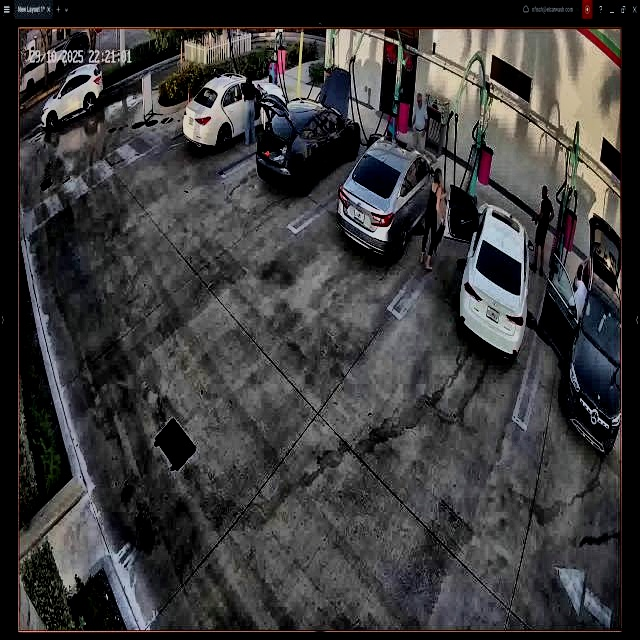Car: (448, 180, 532, 361), (254, 71, 360, 197), (342, 135, 437, 260), (190, 73, 285, 157)
